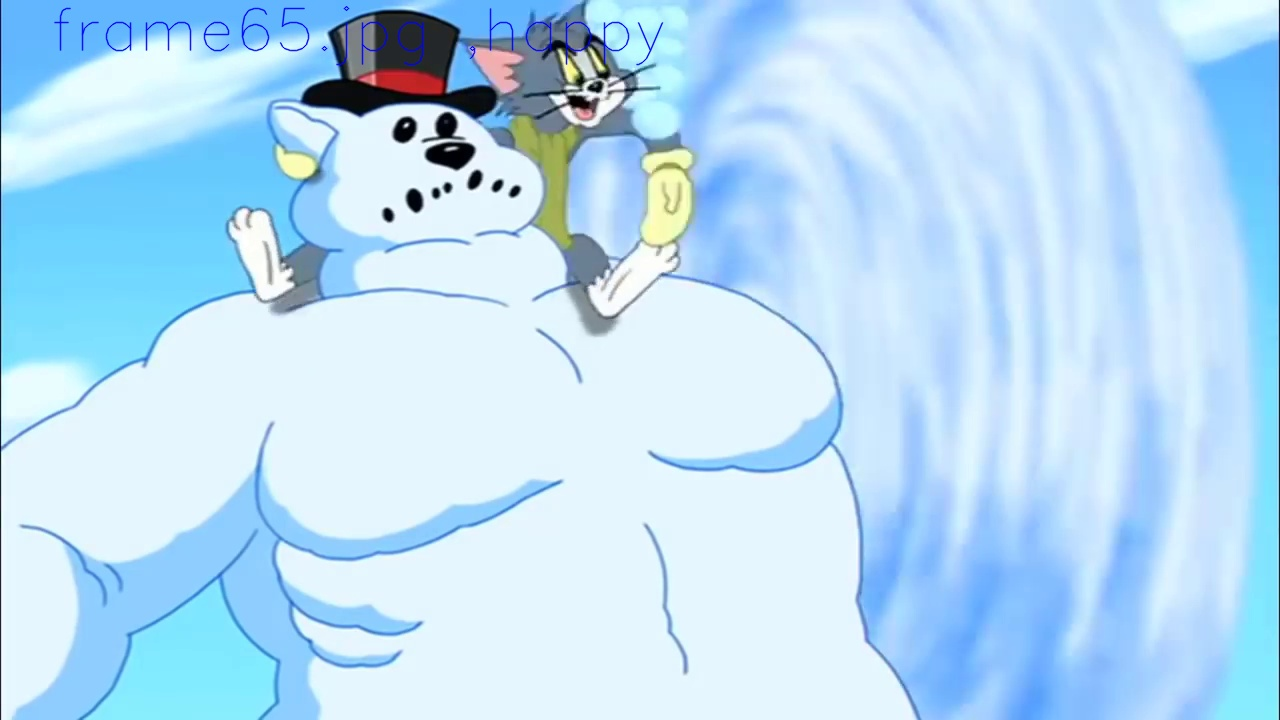happy: (542, 34, 612, 127)
